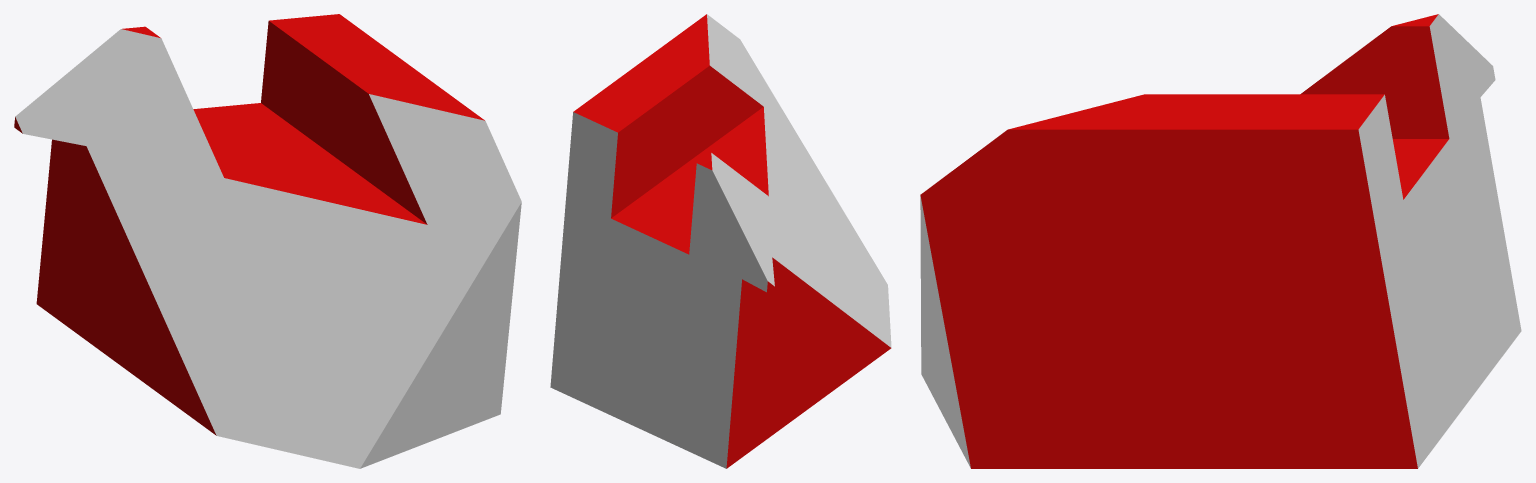
File: mdl_ciudadela_pared_fracturepart2.fbx
3 renders of one model, left to right at view 1: azimuth 30°, elevation 25°; view 2: azimuth 150°, elevation 25°; view 3: azimuth 270°, elevation 25°, orthographic. The views are drawn at different scales.
Visible parts, largest first — view 1: mdl_ciudadela_pared_fracturepart2; view 2: mdl_ciudadela_pared_fracturepart2; view 3: mdl_ciudadela_pared_fracturepart2.
Part boxes in pixels (left/top/right/bottom): mdl_ciudadela_pared_fracturepart2: left=14, top=14, right=521, bottom=468; mdl_ciudadela_pared_fracturepart2: left=550, top=14, right=891, bottom=468; mdl_ciudadela_pared_fracturepart2: left=920, top=14, right=1521, bottom=468.
Bounding box in the file's own units: 4.07 × 4.18 × 6.58.
